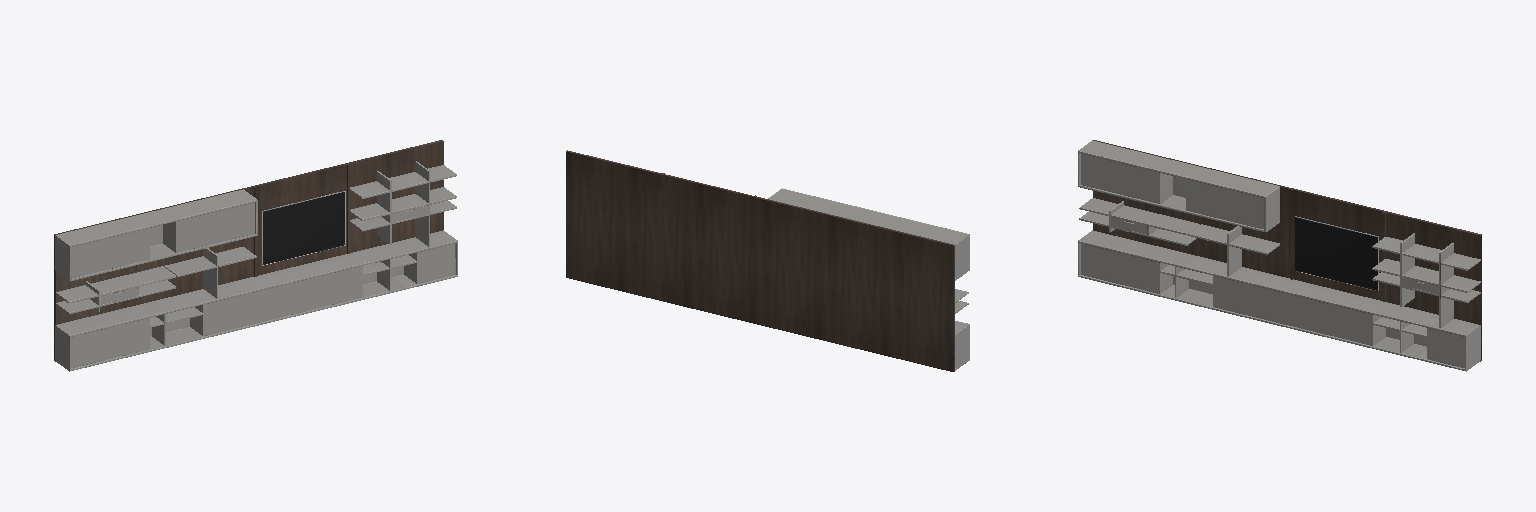
3 renders of one model, left to right at view 1: azimuth 30°, elevation 25°; view 2: azimuth 150°, elevation 25°; view 3: azimuth 330°, elevation 25°, orthographic.
Parts seen in each view (by area): view 1: solid_001, solid_002, solid_004; view 2: solid_002, solid_001; view 3: solid_001, solid_002, solid_004.
Boxes of the visible parts, <box> form: solid_001: <box>55,161,457,371</box>; solid_002: <box>54,140,443,361</box>; solid_004: <box>263,192,344,263</box>; solid_002: <box>566,150,954,371</box>; solid_001: <box>768,188,969,370</box>; solid_001: <box>1078,140,1480,371</box>; solid_002: <box>1093,140,1481,361</box>; solid_004: <box>1295,217,1377,288</box>.
Size of the model in its own units: 2 by 0.6237 by 0.1416.
1 materials, 1 textured.